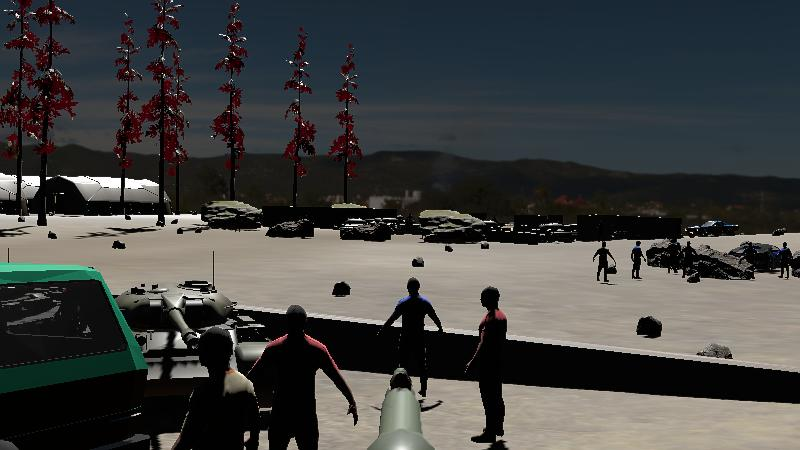Human: (247, 303, 361, 449), (168, 329, 266, 450), (375, 274, 445, 402), (464, 283, 513, 444), (628, 239, 647, 282), (776, 241, 793, 280)
Tank: (75, 279, 272, 388), (672, 245, 756, 283), (336, 216, 393, 242), (534, 220, 579, 244)
car: (0, 271, 151, 449), (725, 239, 785, 272), (729, 240, 788, 272), (683, 218, 742, 240)
